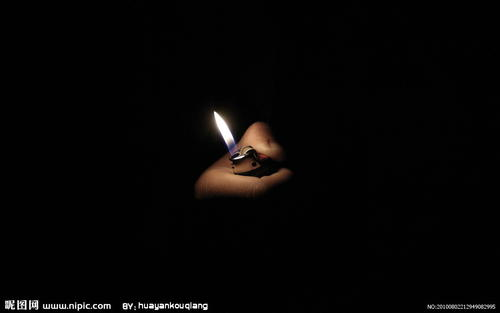fire: (203, 100, 248, 168)
